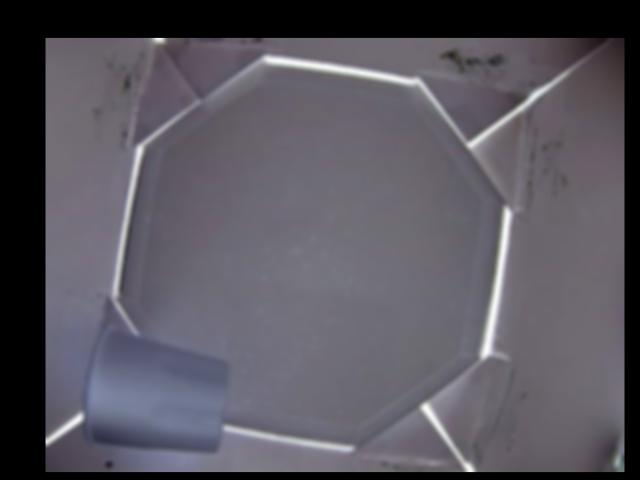Cup: (80, 326, 232, 453)
